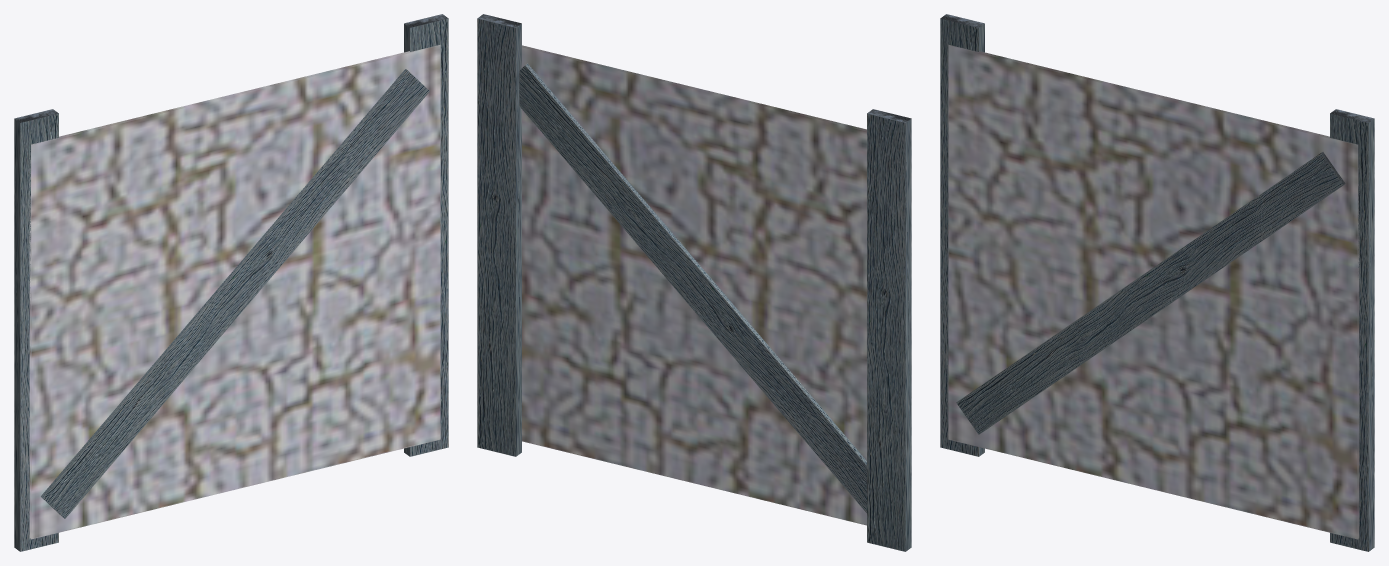
File: Wall1.FBX
3 views of the same model, side by side, from view 1: azimuth 30°, elevation 25°; view 2: azimuth 150°, elevation 25°; view 3: azimuth 330°, elevation 25° (orthographic).
Visible parts, largest first — view 1: sheetmetal, boards (×3); view 2: sheetmetal, boards (×3); view 3: sheetmetal, boards (×3).
Part boxes in pixels (x1,y1,x2,y2): sheetmetal: (29, 44, 440, 539); boards (×3): (14, 14, 448, 551); sheetmetal: (522, 45, 866, 525); boards (×3): (477, 14, 911, 551); sheetmetal: (948, 44, 1359, 539); boards (×3): (940, 14, 1374, 551).
Bounding box in the file's own units: 1.9 × 1.81 × 0.0709.
